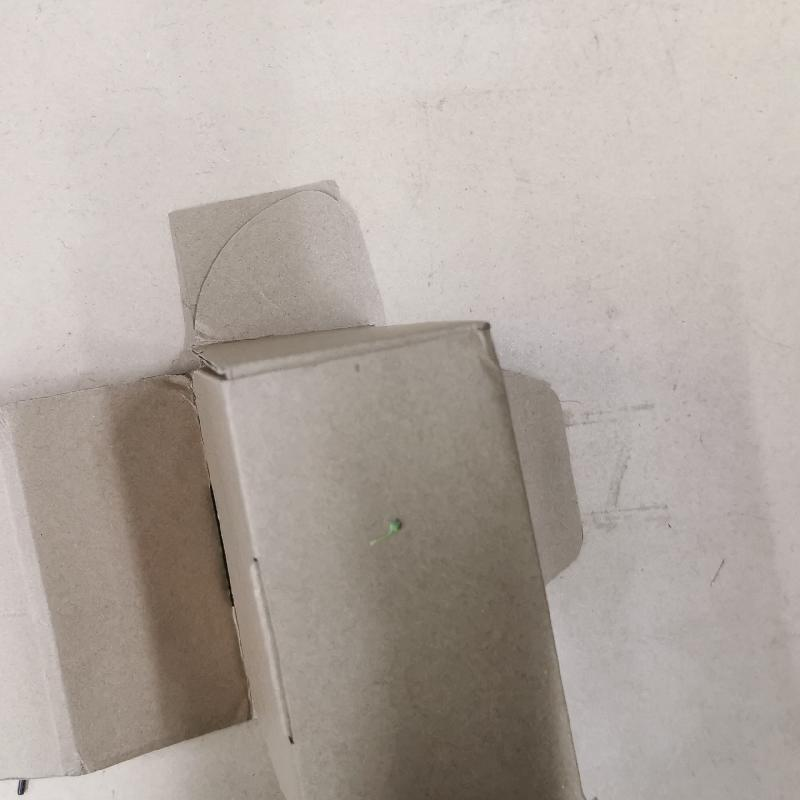boxes: (0, 182, 614, 799)
